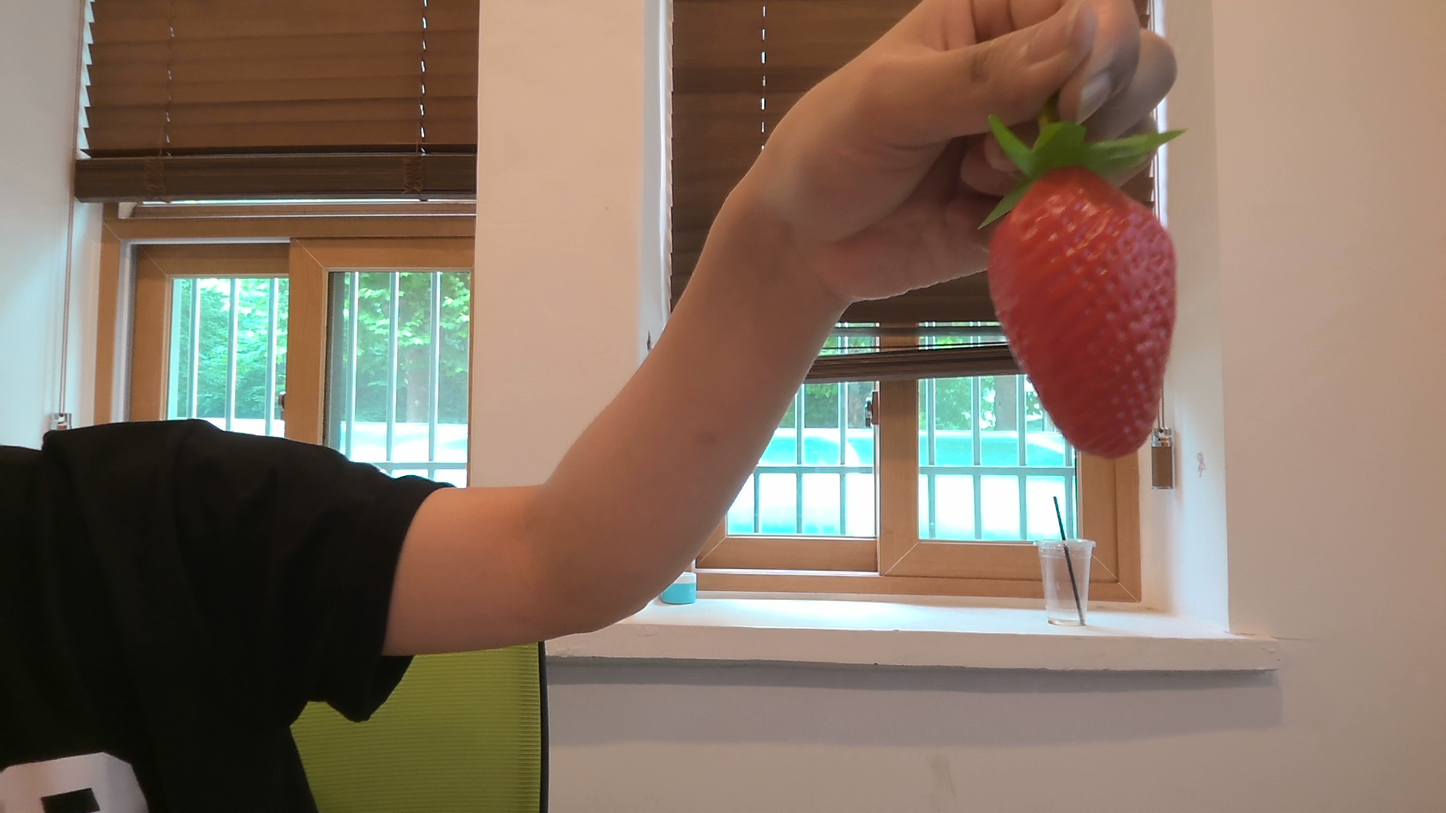strawberry: (979, 149, 1185, 465)
